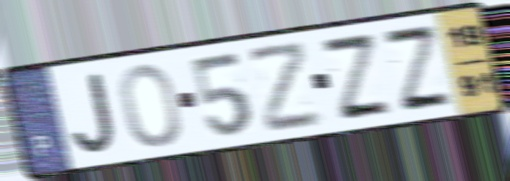5: (188, 48, 255, 139)
J: (68, 70, 119, 156)
O: (117, 62, 185, 150)
Z: (245, 37, 325, 136), (378, 23, 458, 114), (317, 32, 397, 122)
